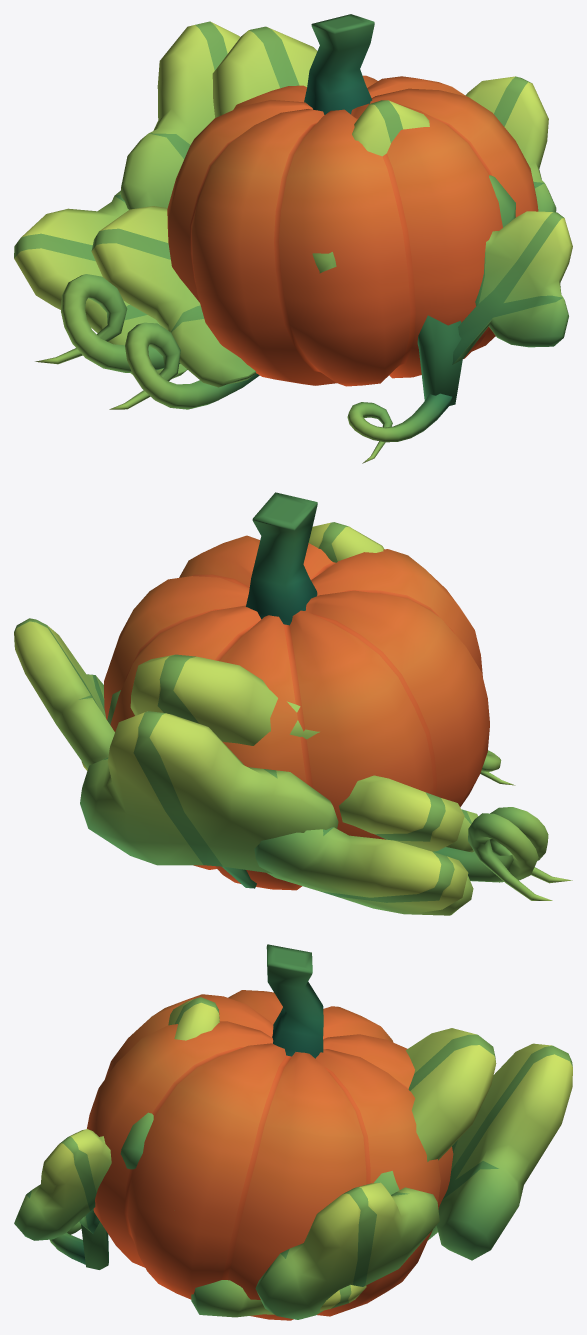
The model's file is Pumpkin.fbx.
3 renders of one model, top to bottom at view 1: azimuth 30°, elevation 25°; view 2: azimuth 150°, elevation 25°; view 3: azimuth 270°, elevation 25°, orthographic. The views are drawn at different scales.
Visible parts, largest first — view 1: LV3P, LV2P, Lv1P; view 2: LV3P, LV2P, Lv1P; view 3: LV3P, LV2P, Lv1P.
Boxes of the visible parts, x1,y1,x2,y2 form: LV3P: (14,14,556,409); LV2P: (35,26,495,387); Lv1P: (312,100,572,463); LV3P: (14,492,572,915); LV2P: (81,654,552,900); Lv1P: (308,522,515,785); LV3P: (87,944,572,1320); LV2P: (191,1028,496,1317); Lv1P: (14,997,219,1269).
Bounding box in the file's own units: 0.9842 × 0.6309 × 0.9441.
